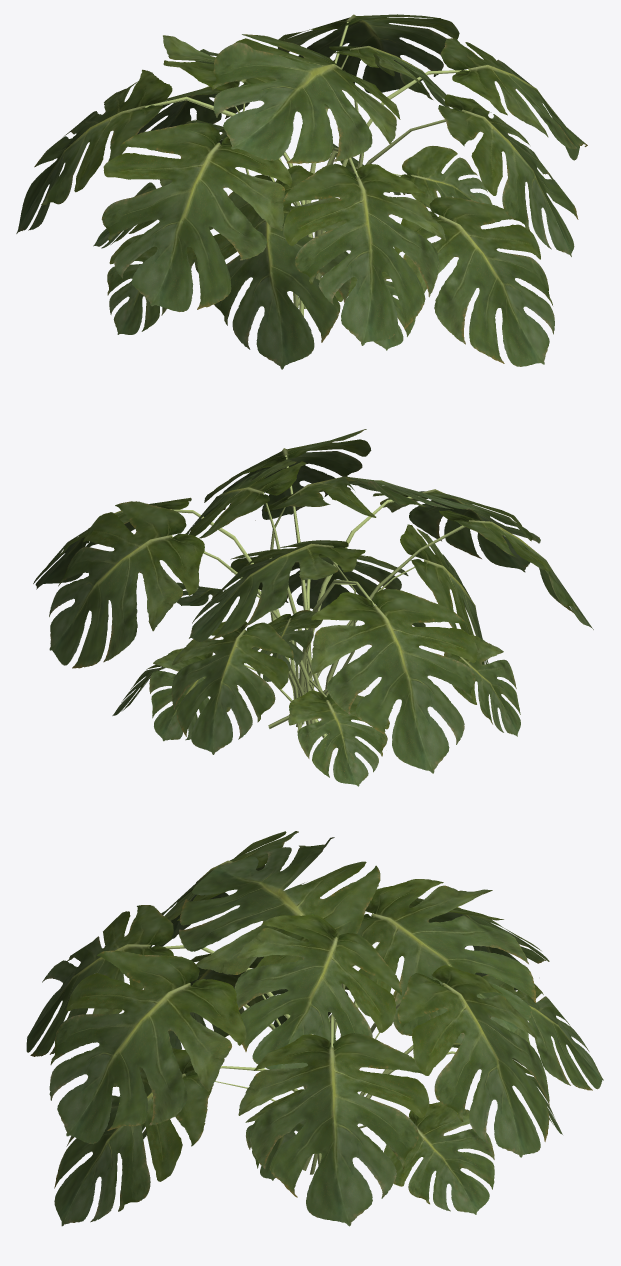
File: monstera.glb
3 views of the same model, one above another, from view 1: azimuth 30°, elevation 25°; view 2: azimuth 150°, elevation 25°; view 3: azimuth 270°, elevation 25° (orthographic). The views are drawn at different scales.
Visible parts, largest first — view 1: leaves, trunk; view 2: leaves, trunk; view 3: leaves, trunk.
Part boxes in pixels (<box>): leaves: <box>16,14,587,369</box>; trunk: <box>145,22,469,316</box>; leaves: <box>33,429,593,786</box>; trunk: <box>170,455,465,738</box>; leaves: <box>26,831,603,1226</box>; trunk: <box>164,943,455,1174</box>.
Bounding box in the file's own units: 4.9 × 2.51 × 4.31.
Materials: 1 (1 with a texture image).
